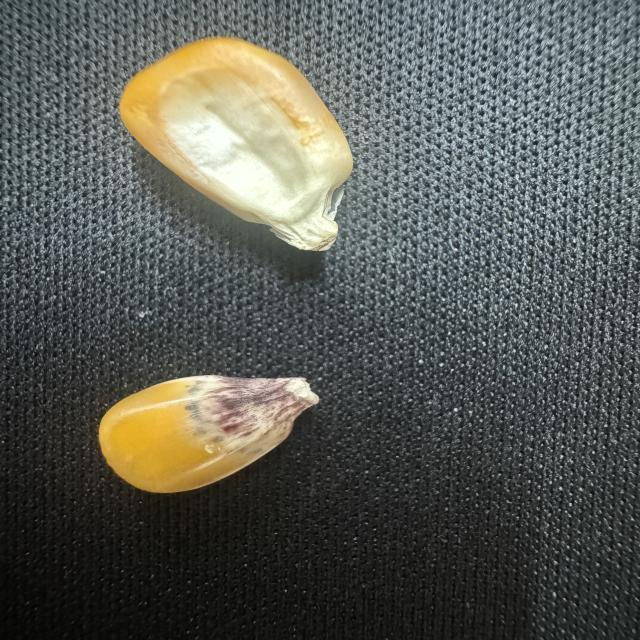Bad-Seed: (85, 364, 335, 495)
Good-Seed: (109, 34, 364, 257)
